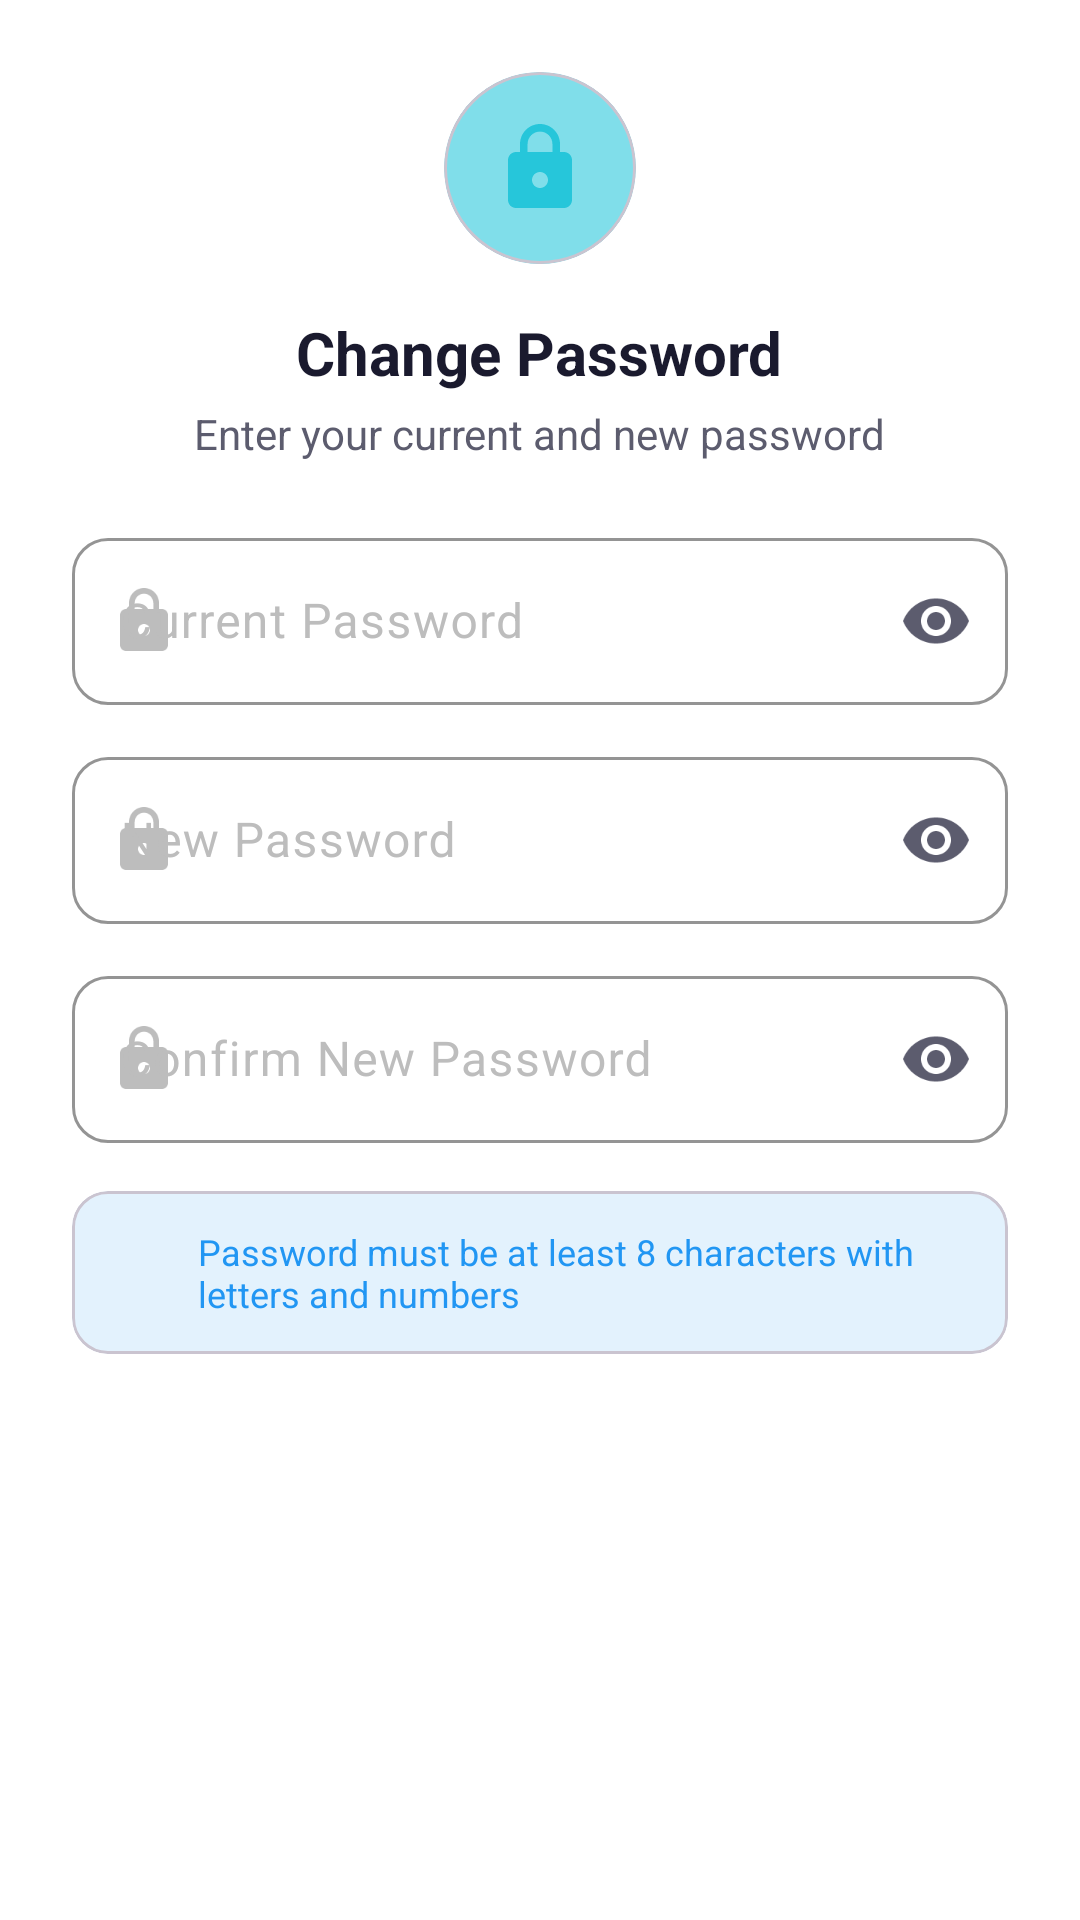

Icons on this 1080 x 1920 Android screen, each with the point to tap as point (x, y):
lock: point (540, 166)
